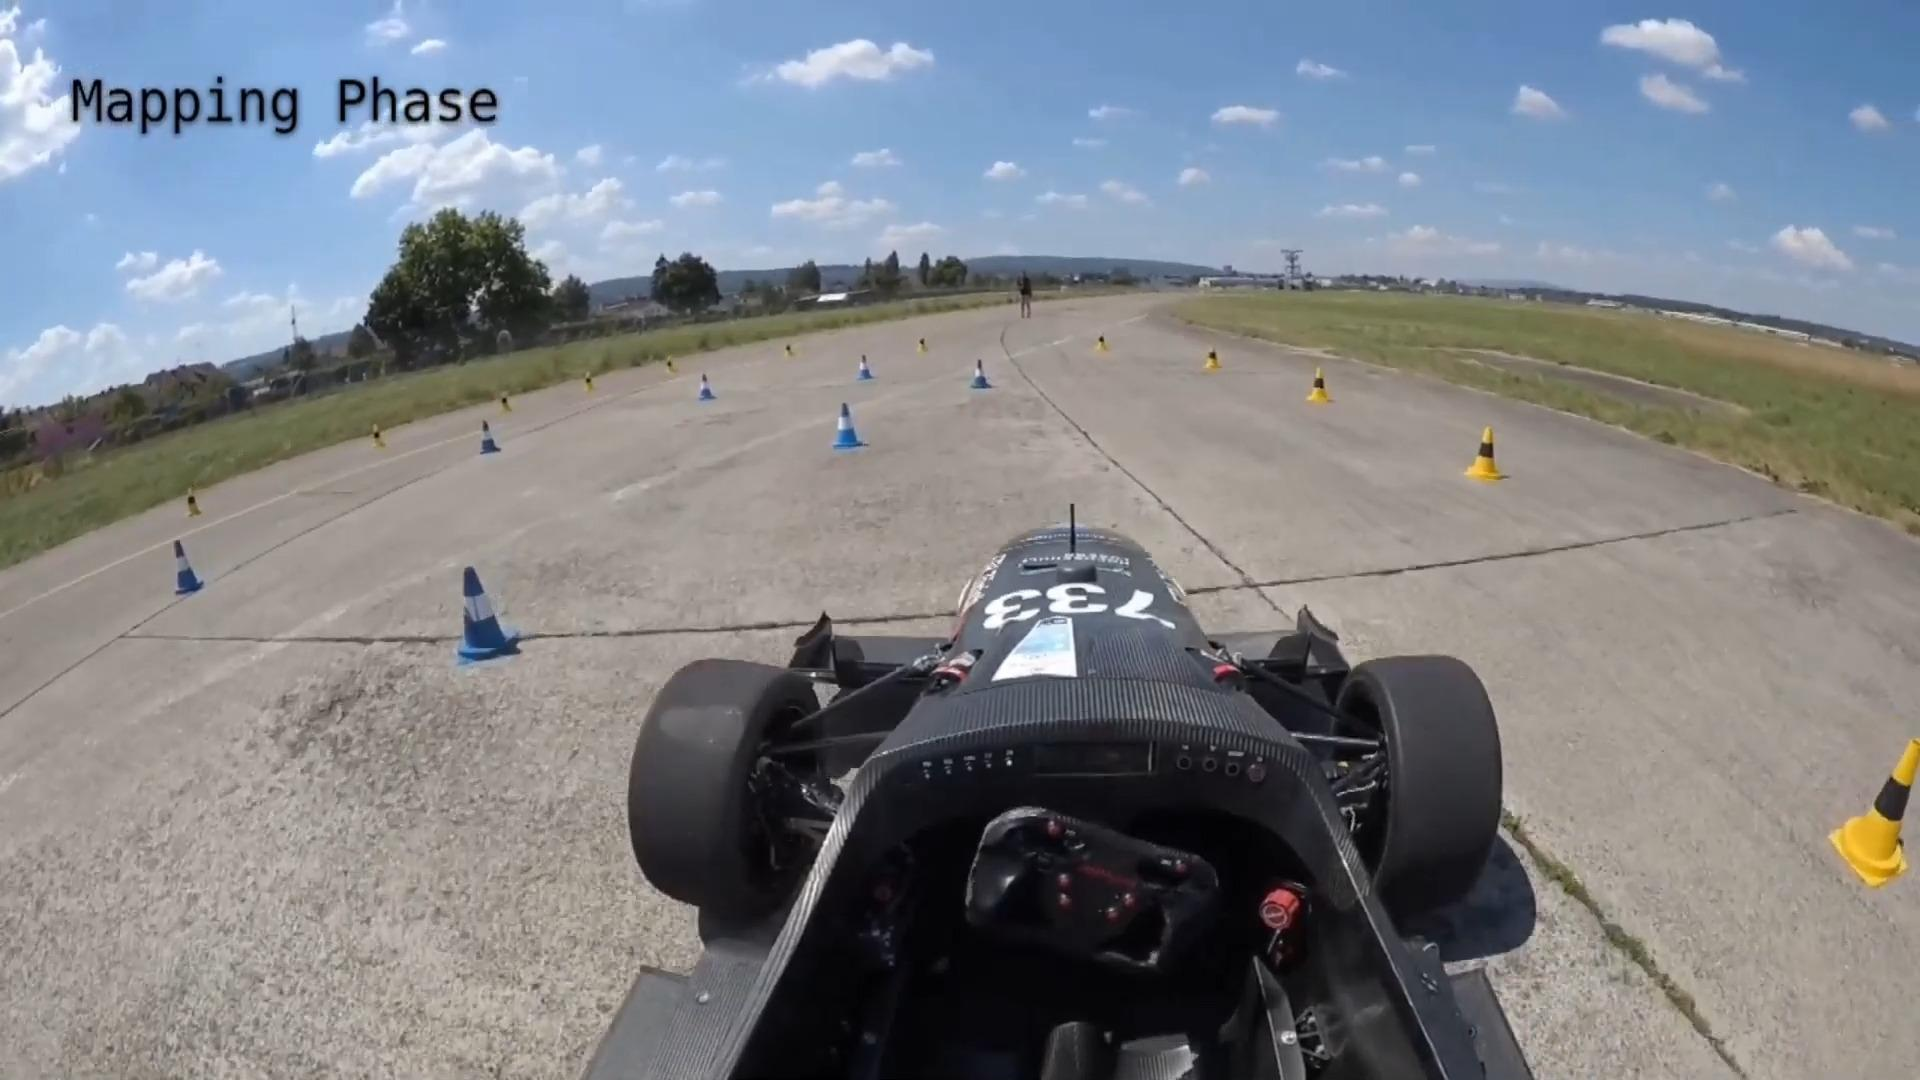blue_cone: (450, 562, 524, 669), (169, 538, 203, 600), (832, 402, 866, 459), (472, 415, 504, 458), (849, 352, 878, 385), (969, 359, 994, 394), (692, 369, 717, 405)
yellow_cone: (1824, 724, 1920, 890), (1462, 423, 1511, 488), (1304, 367, 1333, 406), (1200, 343, 1225, 372), (368, 421, 388, 454), (186, 487, 204, 518), (1092, 331, 1110, 356), (913, 332, 930, 357), (496, 393, 513, 418), (583, 369, 597, 396), (665, 352, 679, 376), (783, 338, 796, 363)
